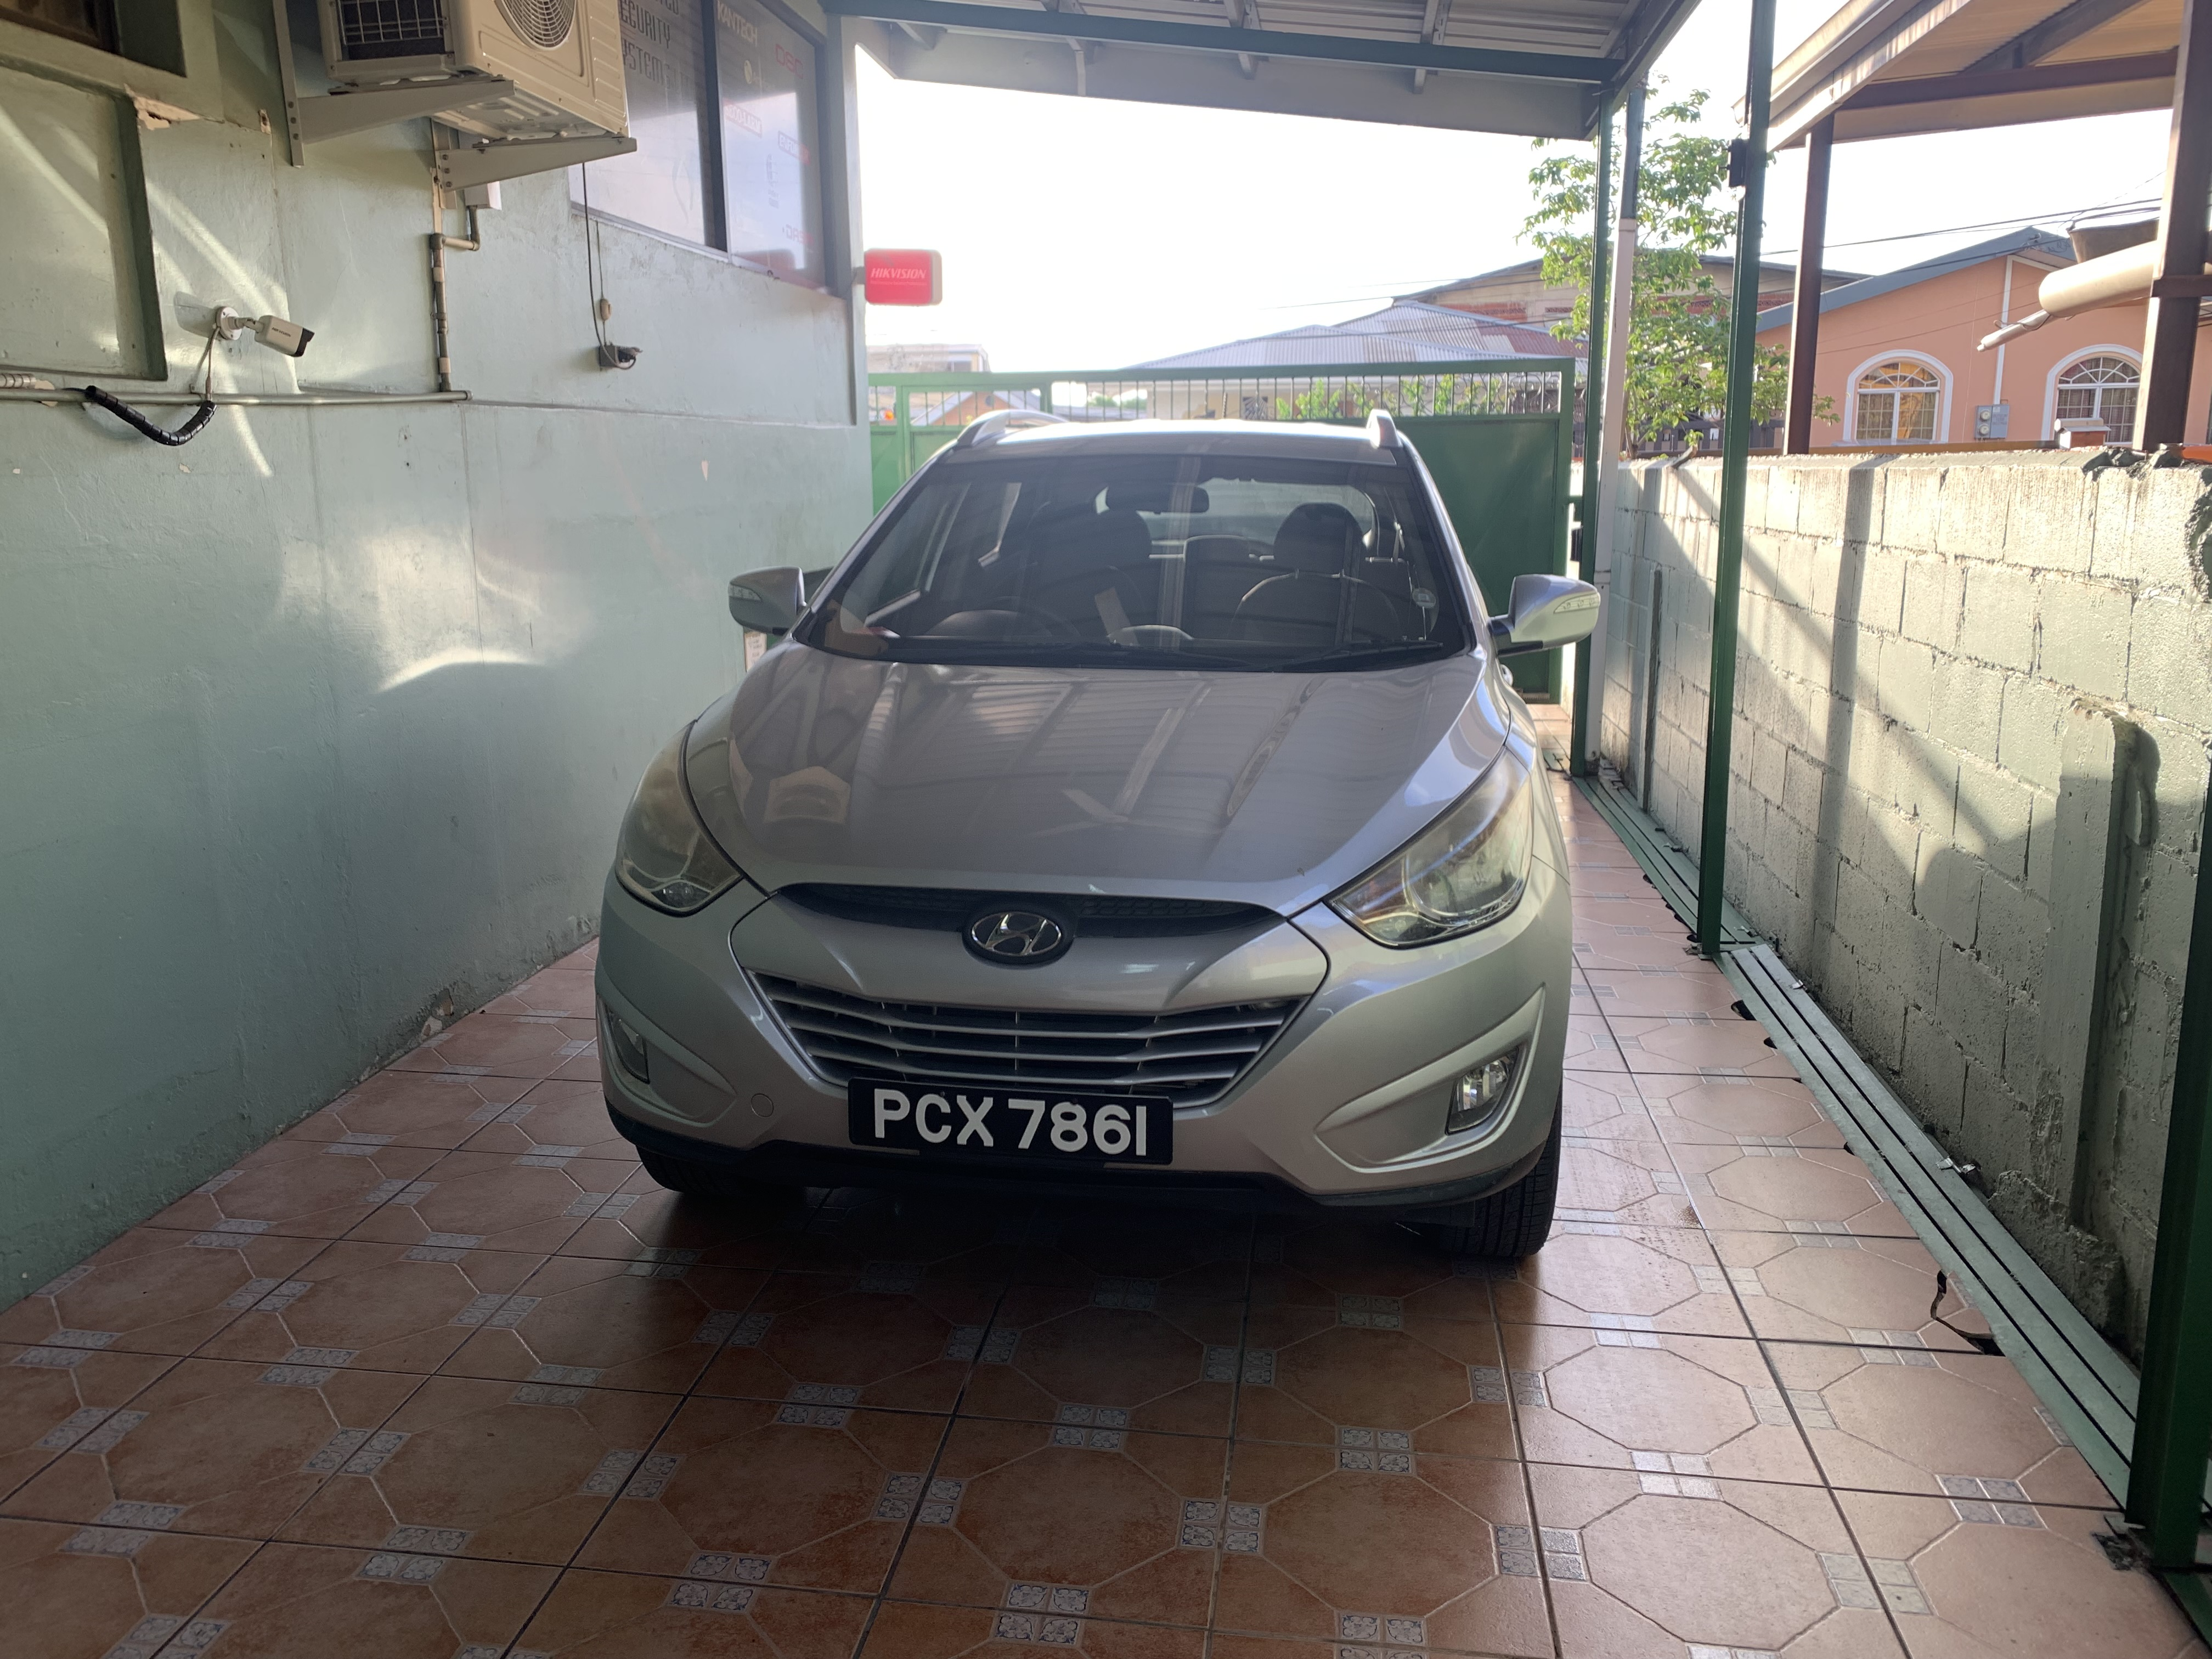License-Plate: (854, 1077, 1174, 1143)
